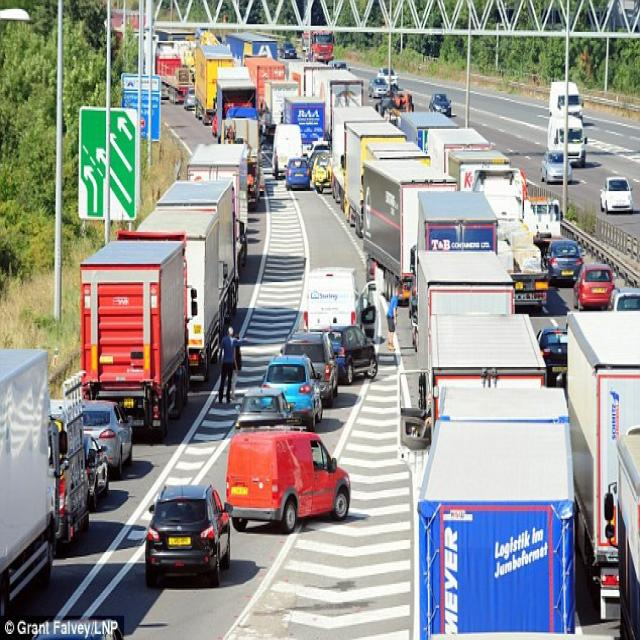body: (216, 323, 240, 406), (384, 280, 400, 350), (229, 334, 243, 402)
